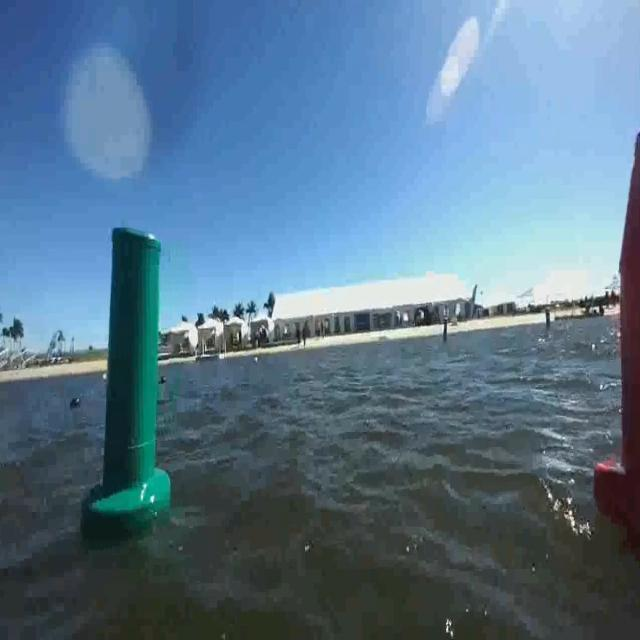green-column-buoy: (89, 226, 174, 536)
